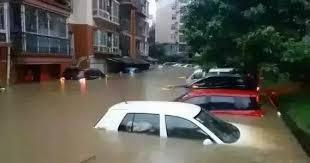water: (0, 70, 308, 162)
